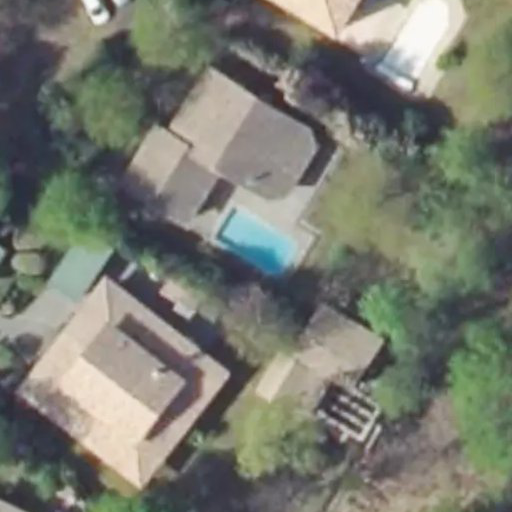pool: (212, 238, 298, 245)
